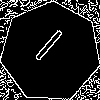I: (25, 27, 66, 71)
